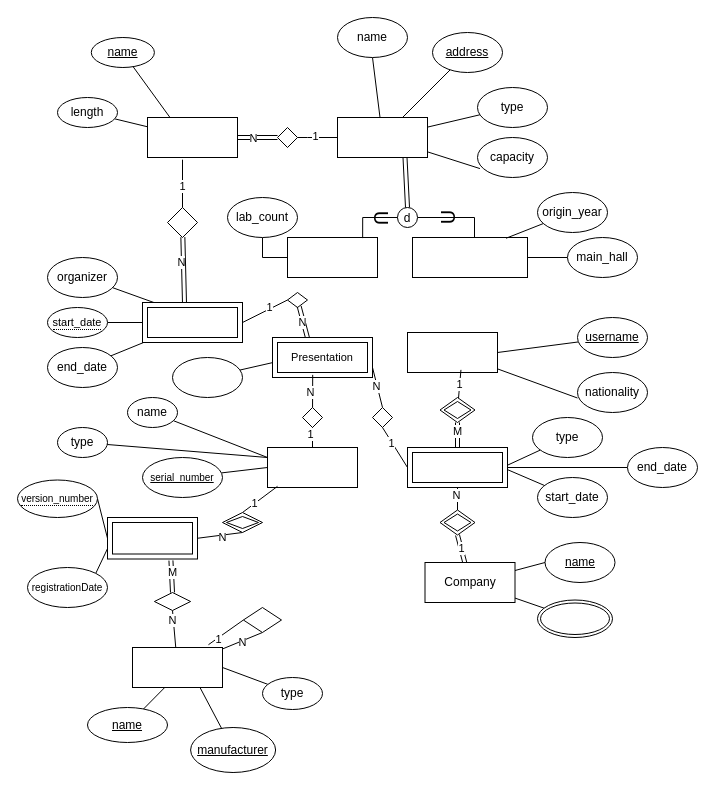
This 715x790 diagram has some shape labels left out. Here are the shapes that lost their labels. From the top down, the centre of each, then its label:
At [192,137]: "Hackathon".
At [382,137]: "Location".
At [332,257]: "UniLocation".
At [470,257]: "TechnologicalPark".
At [192,322]: "HeldHackathon".
At [452,352]: "Engineer".
At [207,377]: "points".
At [312,467]: "Robot".
At [457,467]: "Partnership".
At [152,537]: "RobotVersion".
At [574,618]: "sponsors".
At [177,667]: "Component".
